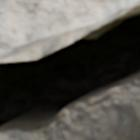brick: (0, 0, 136, 60)
crack: (0, 0, 139, 139)
